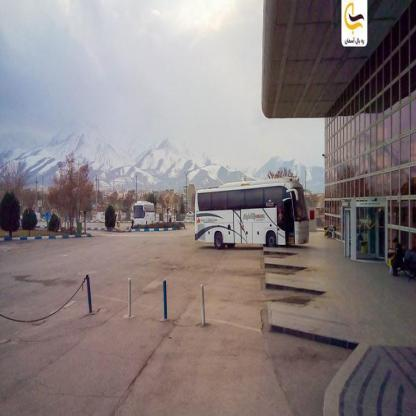Bus: (194, 181, 311, 246), (130, 201, 159, 228)
